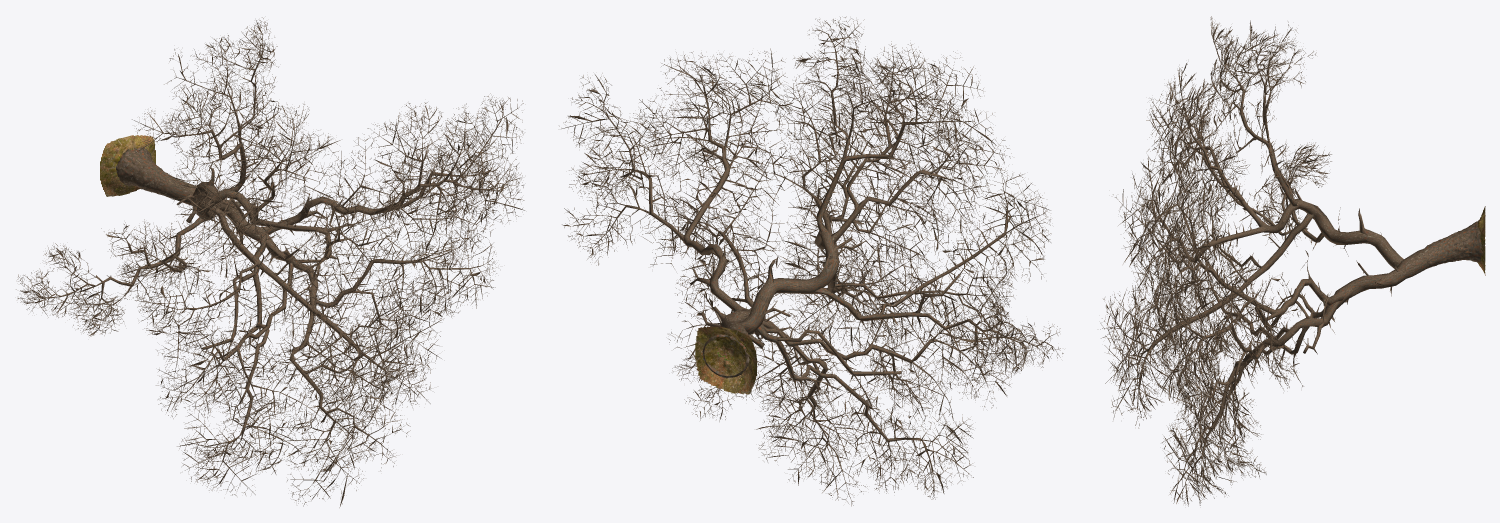
The model's file is MontereyTree.glb.
The picture shows the model from 3 angles, left to right: view 1: azimuth 30°, elevation 25°; view 2: azimuth 150°, elevation 25°; view 3: azimuth 270°, elevation 25°; orthographic projection. The views are drawn at different scales.
Visible parts, largest first — view 1: Monterey pine; view 2: Monterey pine; view 3: Monterey pine.
Part boxes in pixels (box(x1,y1,x2,y2)): Monterey pine: box(16, 17, 524, 507); Monterey pine: box(559, 16, 1063, 506); Monterey pine: box(1100, 16, 1485, 506).
Size of the model in its own units: 20.84 by 19.51 by 14.82.
5 materials, 5 textured.
